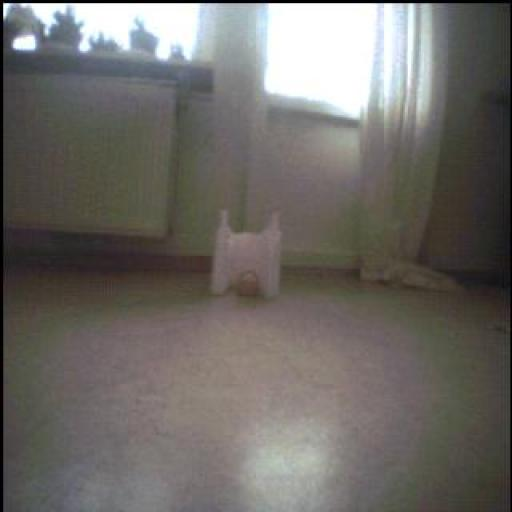Basket: (234, 270, 265, 303)
